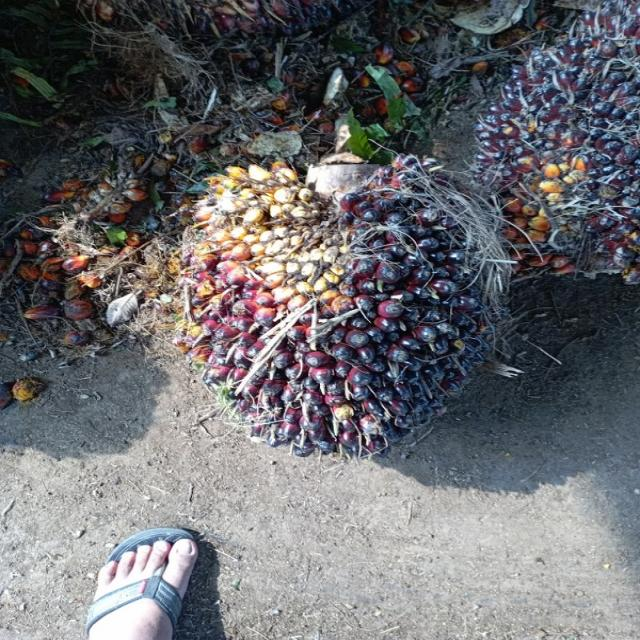fraksi 00: (474, 0, 640, 282)
fraksi 1: (165, 154, 489, 454)
